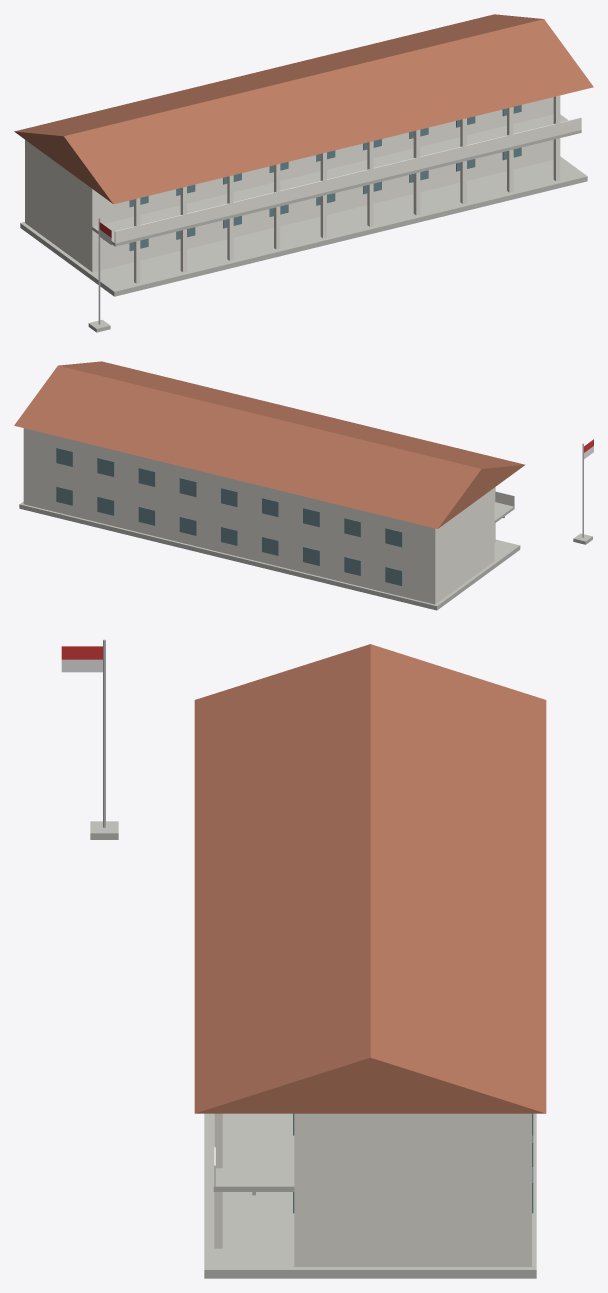
File: school.glb
3 views of the same model, one above another, from view 1: azimuth 30°, elevation 25°; view 2: azimuth 150°, elevation 25°; view 3: azimuth 270°, elevation 25° (orthographic). The views are drawn at different scales.
Parts seen in each view (by area): view 1: walls, roof, flag; view 2: walls, roof, flag; view 3: roof, walls, flag.
Part boxes in pixels (x1=…): walls: x1=20, y1=95, x2=587, y2=296; roof: x1=14, y1=14, x2=593, y2=204; flag: x1=88, y1=218, x2=111, y2=332; walls: x1=19, y1=428, x2=520, y2=610; roof: x1=14, y1=361, x2=525, y2=528; flag: x1=573, y1=439, x2=593, y2=544; roof: x1=194, y1=644, x2=546, y2=1113; walls: x1=204, y1=1113, x2=536, y2=1278; flag: x1=61, y1=639, x2=118, y2=839.
Size of the model in its own units: 45.2 by 10.4 by 20.4.
